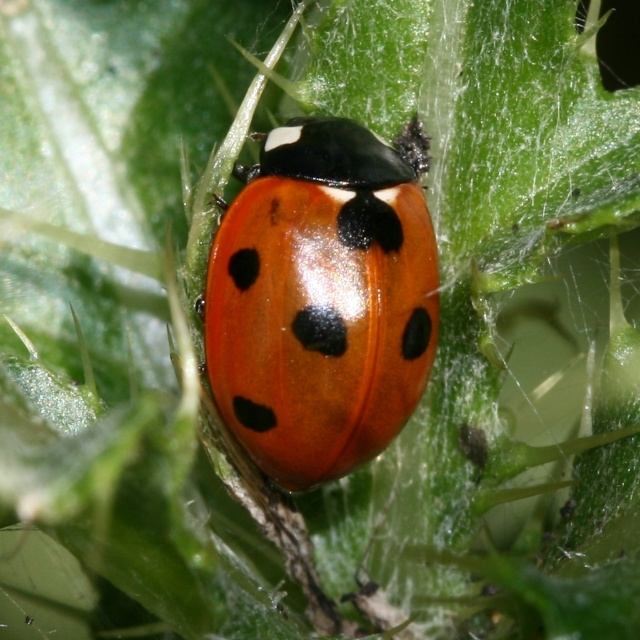Ladybug: (192, 116, 438, 497)
